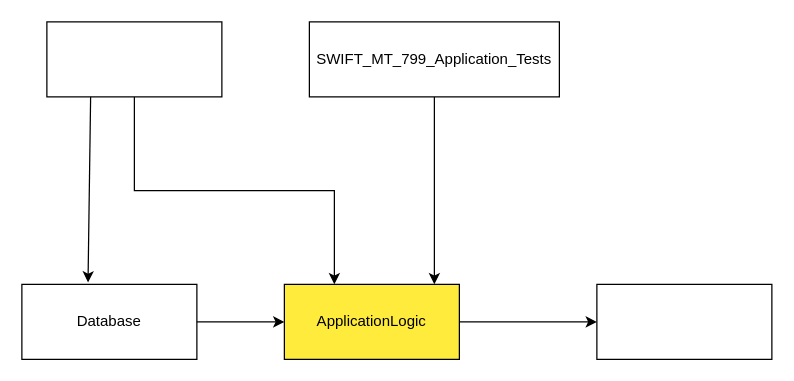
The diagram is 794 pixels wide and 381 high, and some of its shapes have lost their labels. Here are the shapes that lost their labels. From the top down, the centre of each, then its label:
At point (134, 59): "SWIFT_MT799_WebApi".
At point (684, 321): "SWIFT_MT799_Logic".
